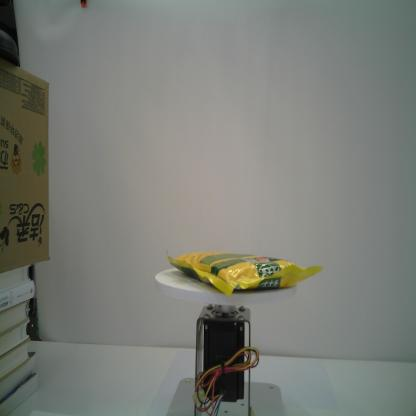Seasoner: (165, 250, 324, 298)
